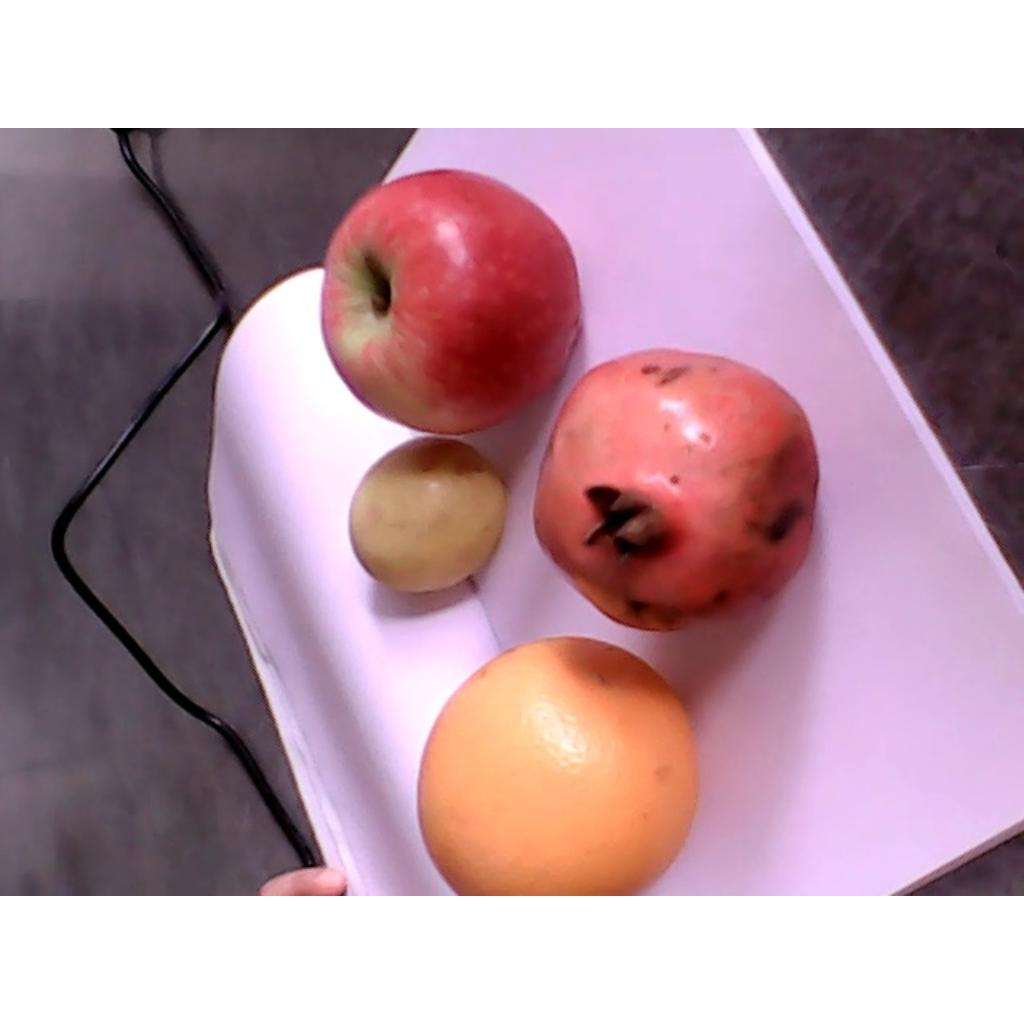apple: (319, 166, 584, 435)
lemon: (345, 437, 505, 596)
orange: (417, 639, 702, 894)
pomegranate: (532, 353, 825, 637)
